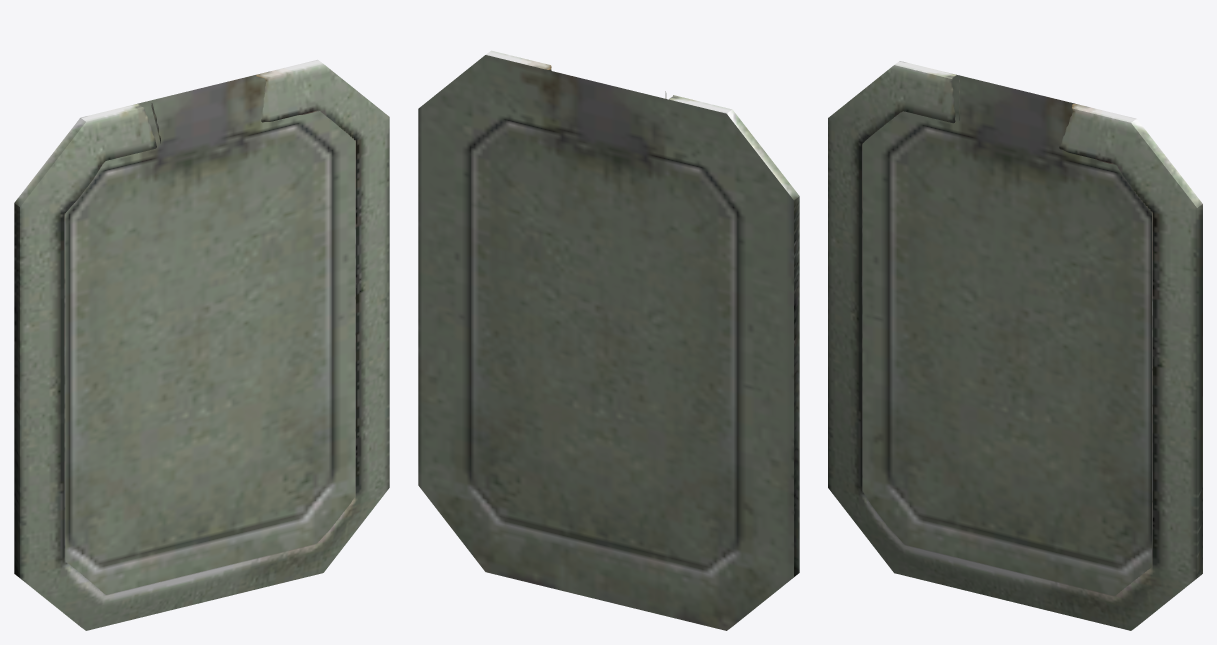
Rendered from eqp_id_badge_s01_l1.fbx.
The picture shows the model from 3 angles, left to right: view 1: azimuth 30°, elevation 25°; view 2: azimuth 150°, elevation 25°; view 3: azimuth 330°, elevation 25°; orthographic projection.
Parts seen in each view (by area): view 1: mesh_node; view 2: mesh_node; view 3: mesh_node.
Part boxes in pixels (left/top/right/bottom): mesh_node: left=14, top=59, right=389, bottom=630; mesh_node: left=418, top=50, right=799, bottom=630; mesh_node: left=828, top=61, right=1202, bottom=630.
Bounding box in the file's own units: 0.0574 × 0.0839 × 0.00852.
1 material, 1 textured.
